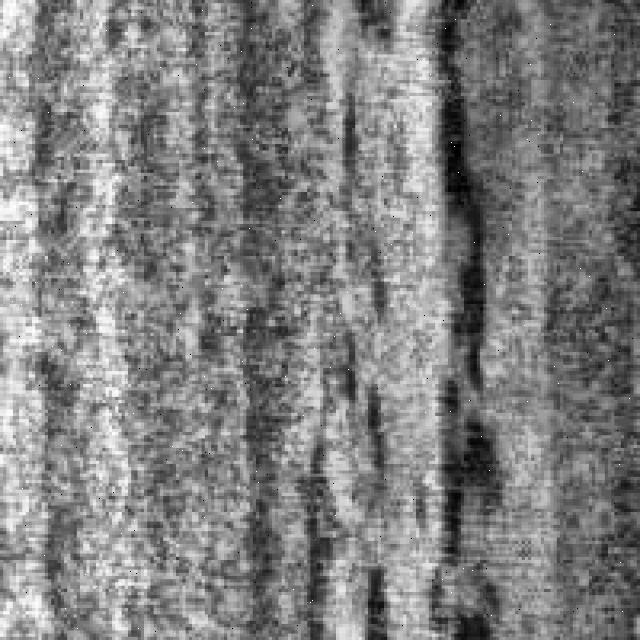Patches: (329, 15, 452, 630), (407, 0, 512, 566)
